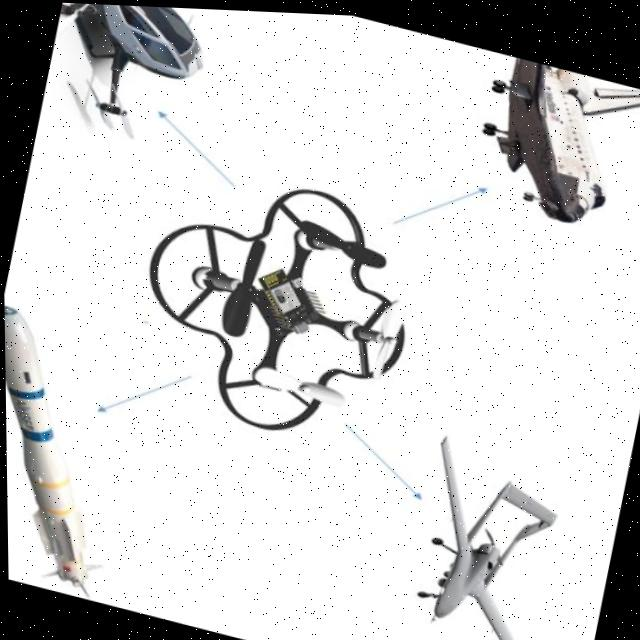drones: (82, 87, 502, 501)
